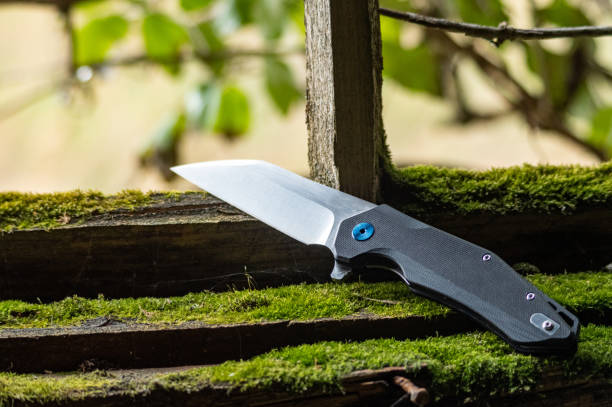knife: (164, 157, 583, 354)
